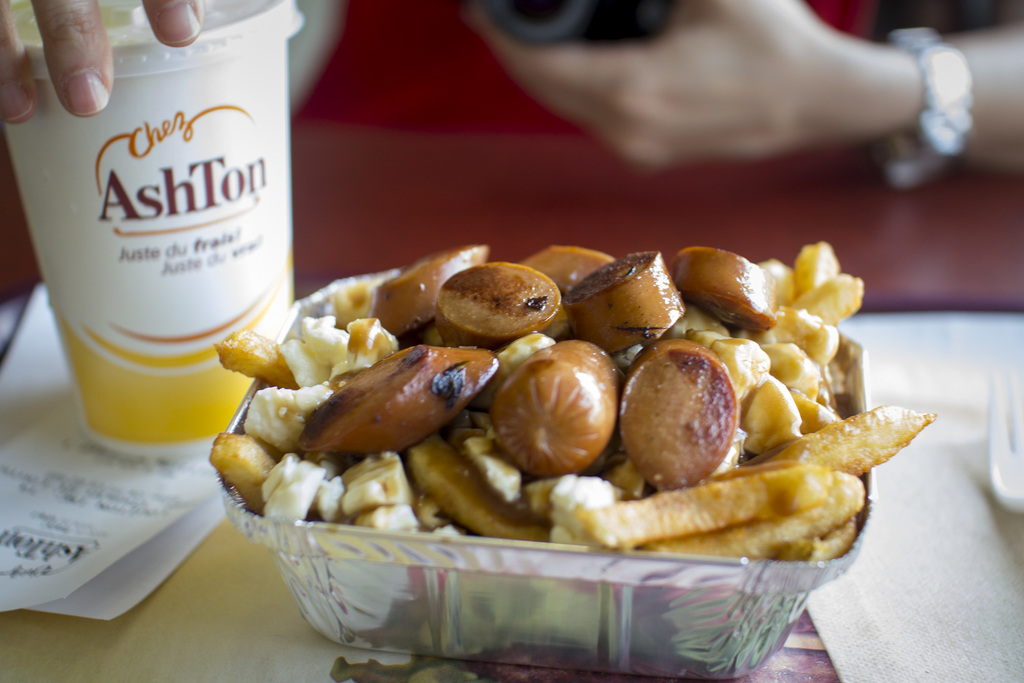French fries: (201, 271, 936, 569)
